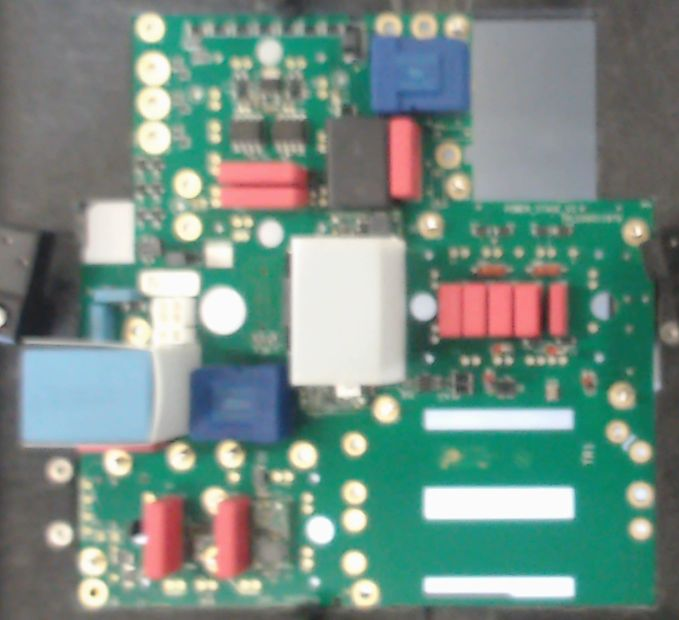comp1: (369, 37, 471, 116), (189, 367, 292, 442)
comp2: (141, 496, 185, 577), (387, 116, 425, 203), (215, 496, 250, 576), (216, 185, 312, 208), (217, 162, 308, 186), (512, 279, 543, 340), (487, 281, 516, 340), (463, 281, 490, 341), (438, 281, 463, 338), (548, 281, 570, 341)
comp3: (327, 117, 390, 209)
comp4: (19, 336, 201, 448), (290, 235, 406, 386)
